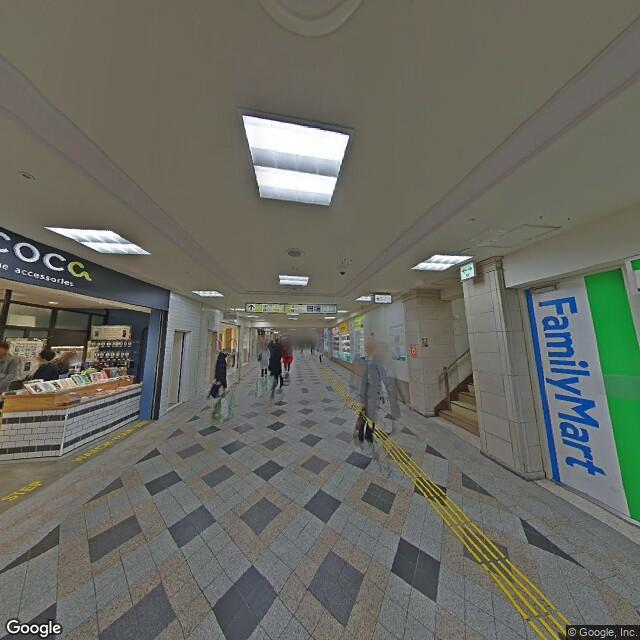family_mart: (523, 255, 638, 517)
